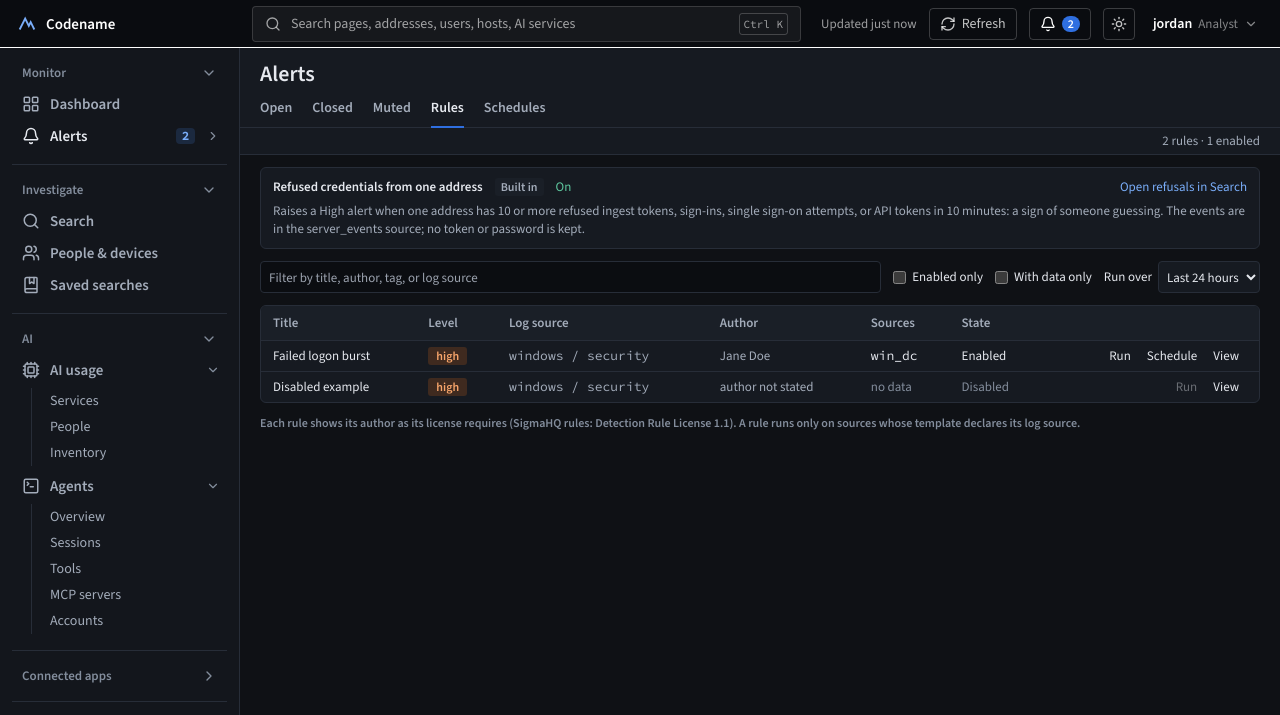
it: Detection rules › shows rule YAML as text and keeps disabled rules unrunnable for analysts
The image size is (1280, 715).
Expected: the button with aria-label "Run Disabled example" is disabled, [1168,376,1205,398]
Click the button with aria-label "View Failed logon burst". click: (1226, 356)
box: [1205,345,1247,367]
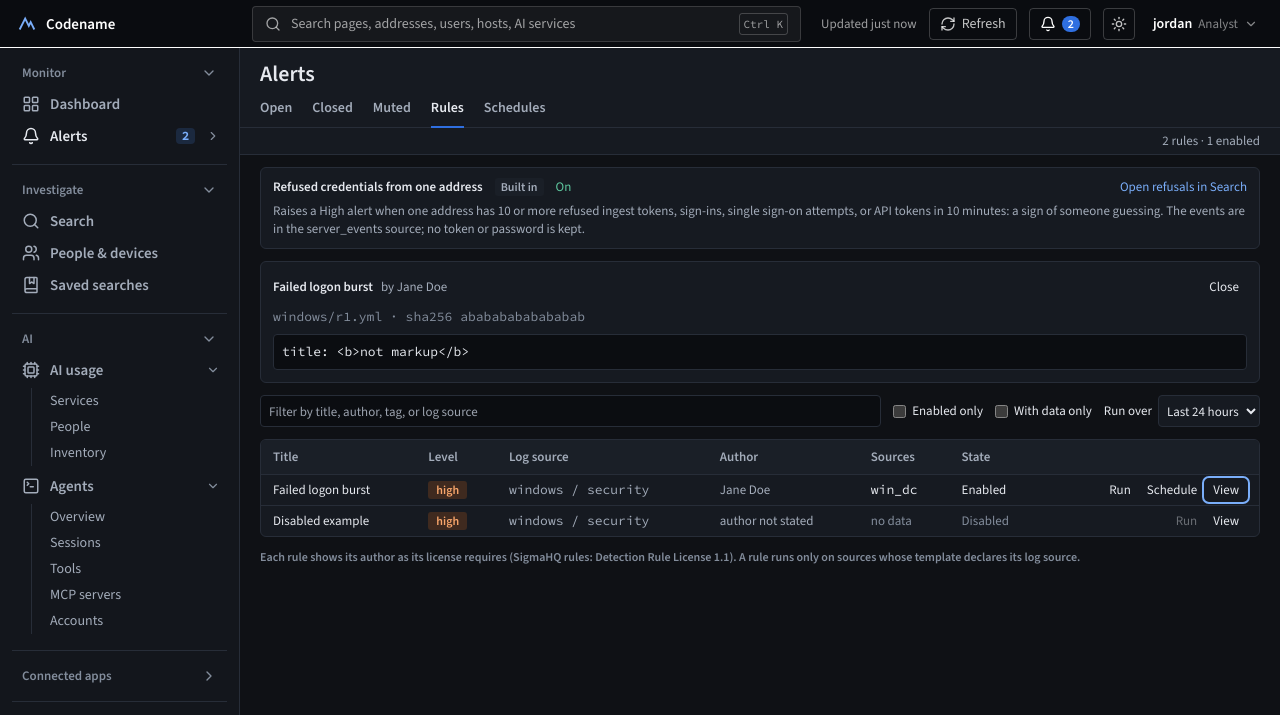
Result: the text "title: <b>not markup</b>" is shown at [273,334,1247,370]
